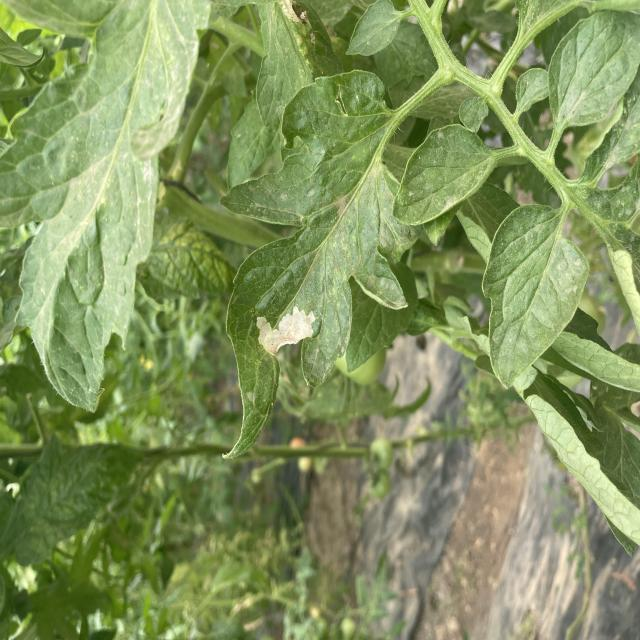Tuta absoluta: (252, 303, 321, 358)
